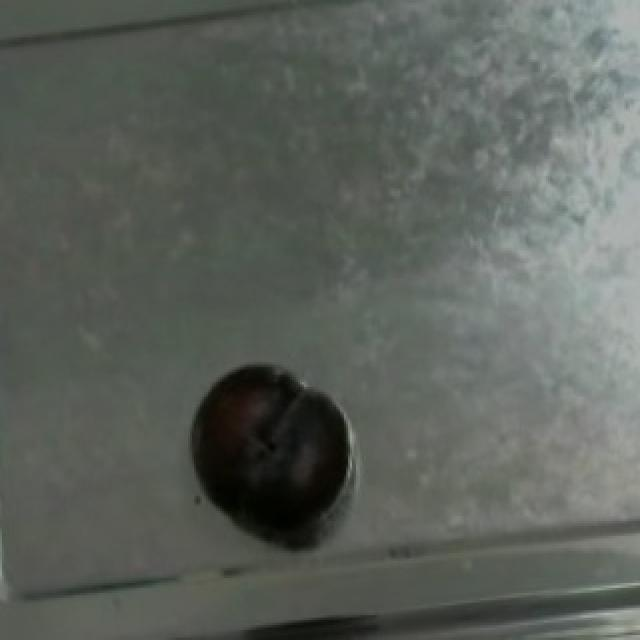Fruit: (190, 379, 358, 538)
